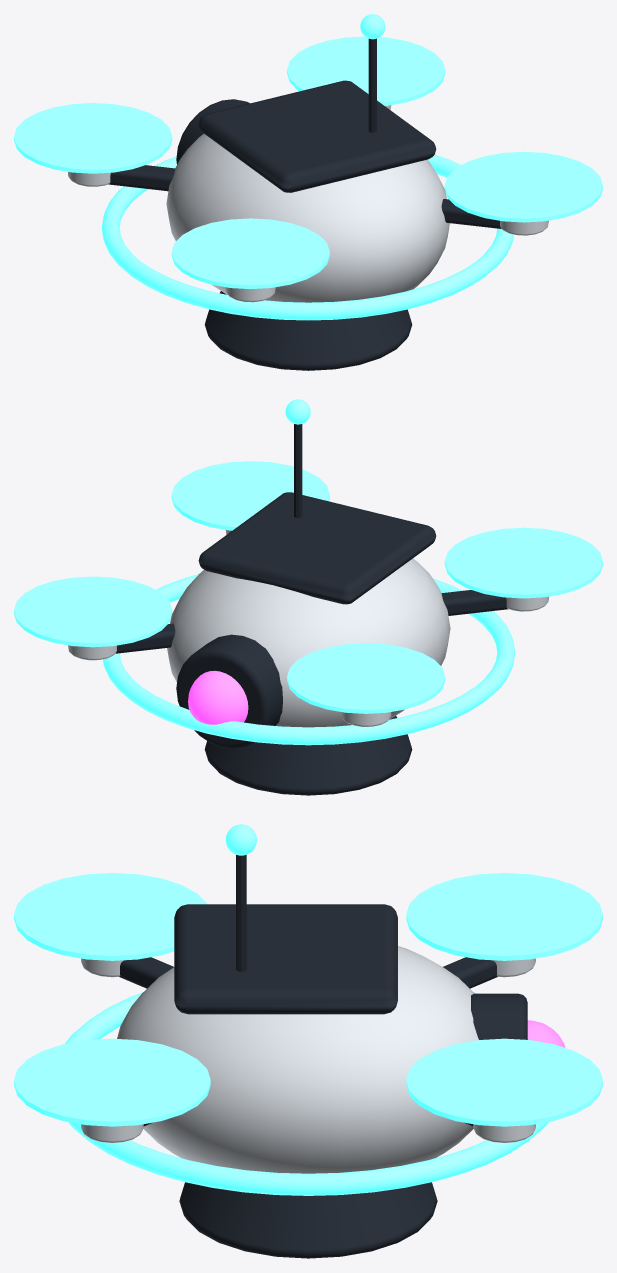
File: drone.glb
3 views of the same model, one above another, from view 1: azimuth 30°, elevation 25°; view 2: azimuth 150°, elevation 25°; view 3: azimuth 270°, elevation 25° (orthographic). The views are drawn at different scales.
Visible parts, largest first — view 1: Drone, Ring; view 2: Drone, Ring, Eye; view 3: Drone, Ring, Eye.
Boxes of the visible parts, <box> form: Drone: <box>14,14,602,370</box>; Ring: <box>101,154,513,320</box>; Drone: <box>14,399,602,795</box>; Ring: <box>102,574,515,745</box>; Eye: <box>188,670,248,724</box>; Drone: <box>14,824,602,1258</box>; Ring: <box>65,992,548,1195</box>; Eye: <box>527,1020,565,1047</box>.
Bounding box in the file's own units: 1.32 × 0.995 × 1.32.
